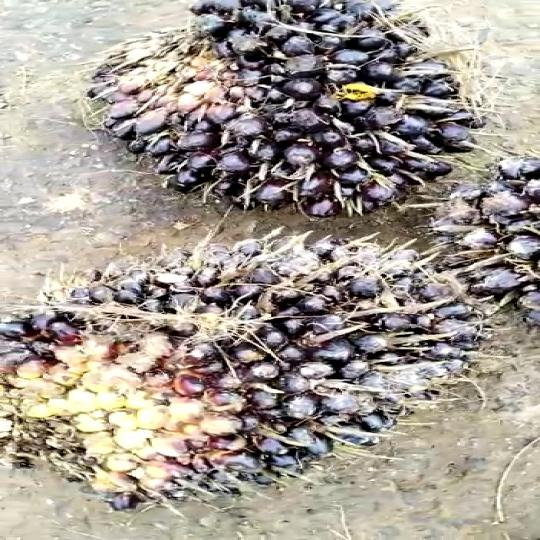mentah: (0, 231, 479, 508), (75, 0, 498, 211)
